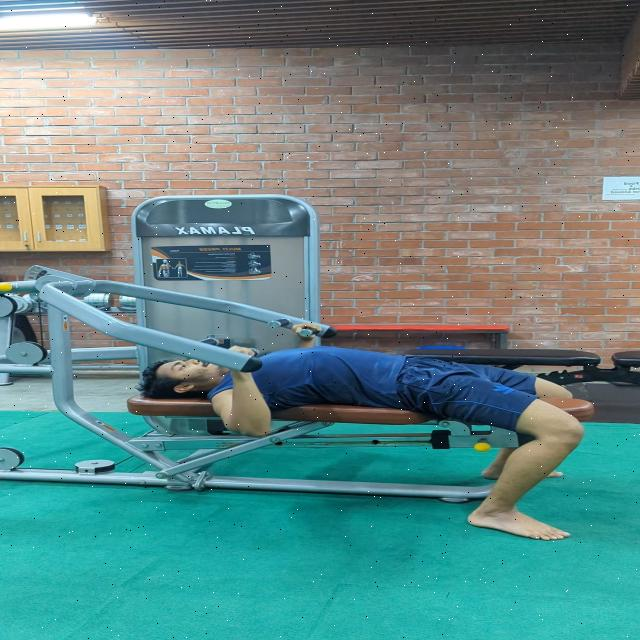Normal_BrenchPress: (87, 319, 596, 542)
